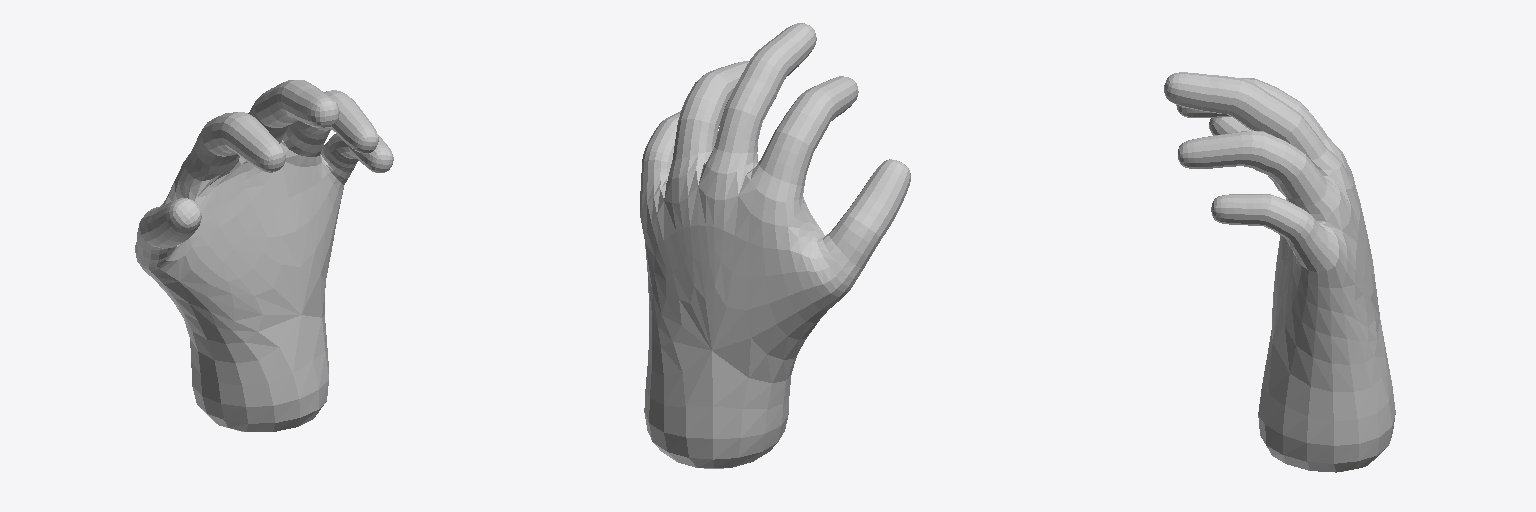
Rendered from handanimatsion24.obj.
3 renders of one model, left to right at view 1: azimuth 30°, elevation 25°; view 2: azimuth 150°, elevation 25°; view 3: azimuth 270°, elevation 25°, orthographic.
Visible parts, largest first — view 1: Cube; view 2: Cube; view 3: Cube.
Part boxes in pixels (x1,y1,x2,y2): Cube: (135, 80, 393, 431); Cube: (640, 23, 910, 468); Cube: (1164, 72, 1395, 472).
Size of the model in its own units: 3.41 by 5.4 by 2.97.